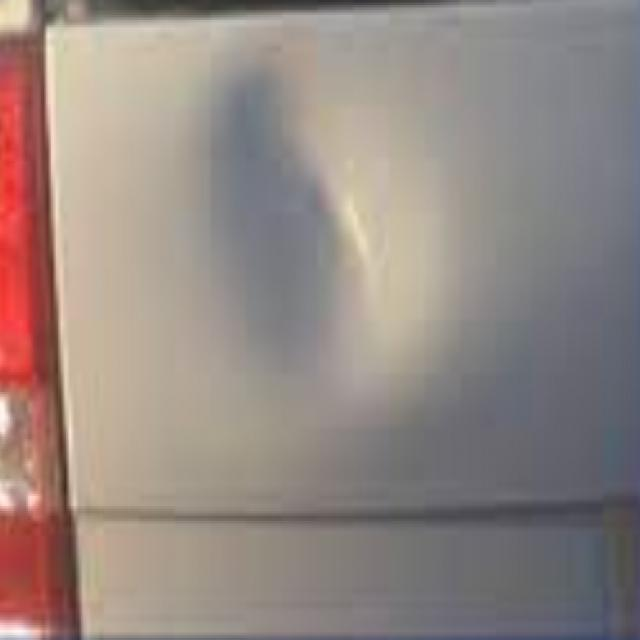dents: (205, 62, 430, 422)
